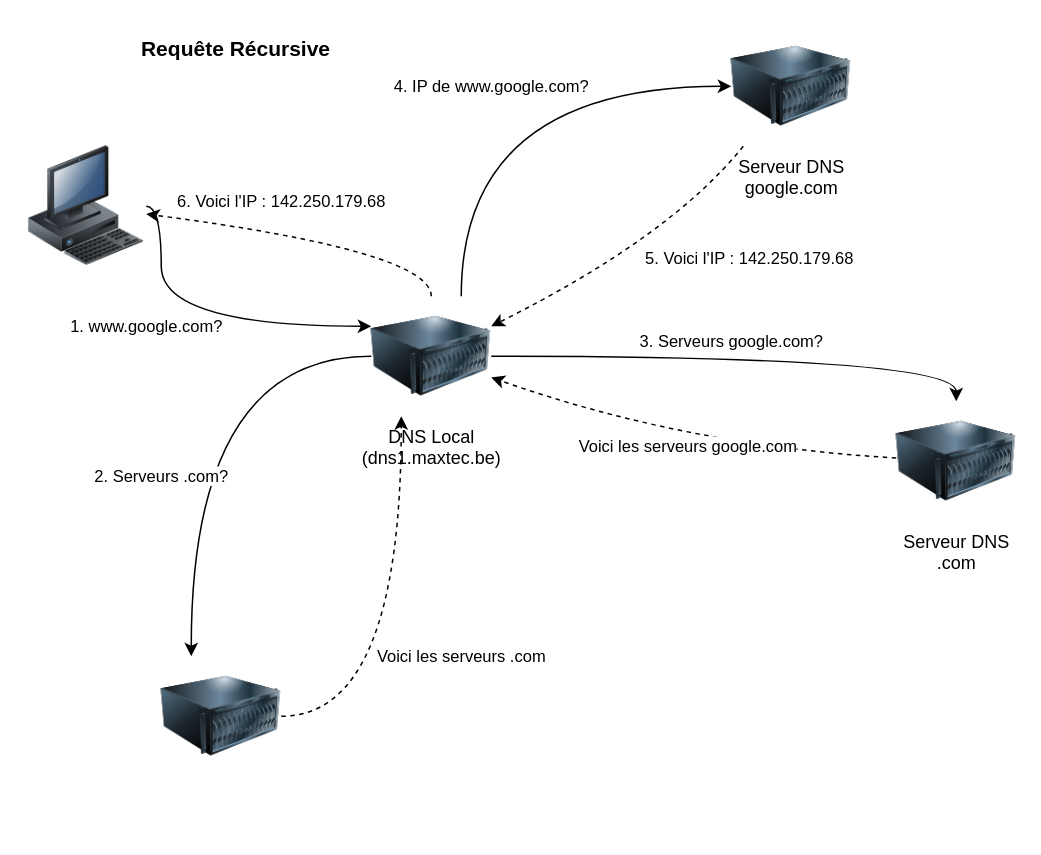
Image size: 1041x855. Some labels were removed from this diagram. Each missing label, with the centre of its shape:
"Poste Client" belongs at point (86, 206).
"Serveur DNS Racine" belongs at point (220, 716).
